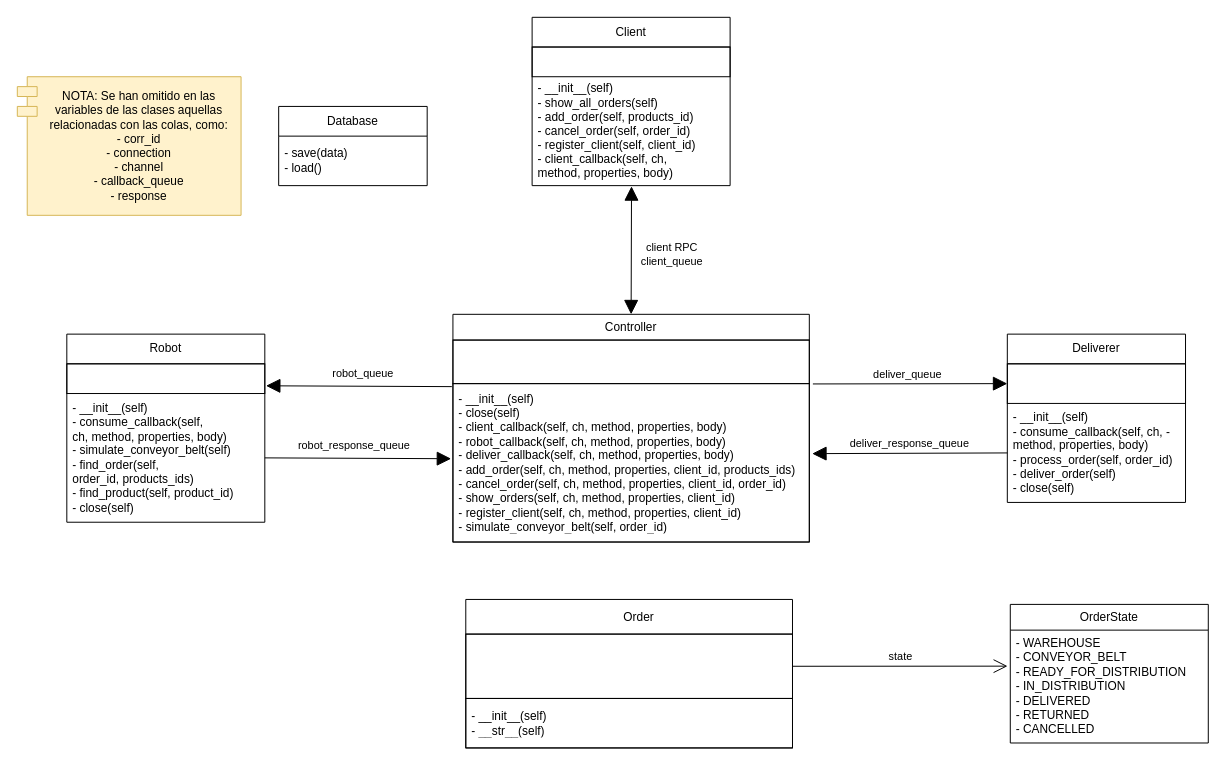
Image size: 1226x765. Some labels were removed from this diagram. The shapes that lost their labels are listed below. From the top down, each one's centre as x and y in pixels, then its label:
At point 630,61: "- id".
At point 165,378: "- p_almacen".
At point 630,361: "- orders - client_orders".
At point 1096,383: "- p_deliver".
At point 628,665: "- id - products_id - state".
